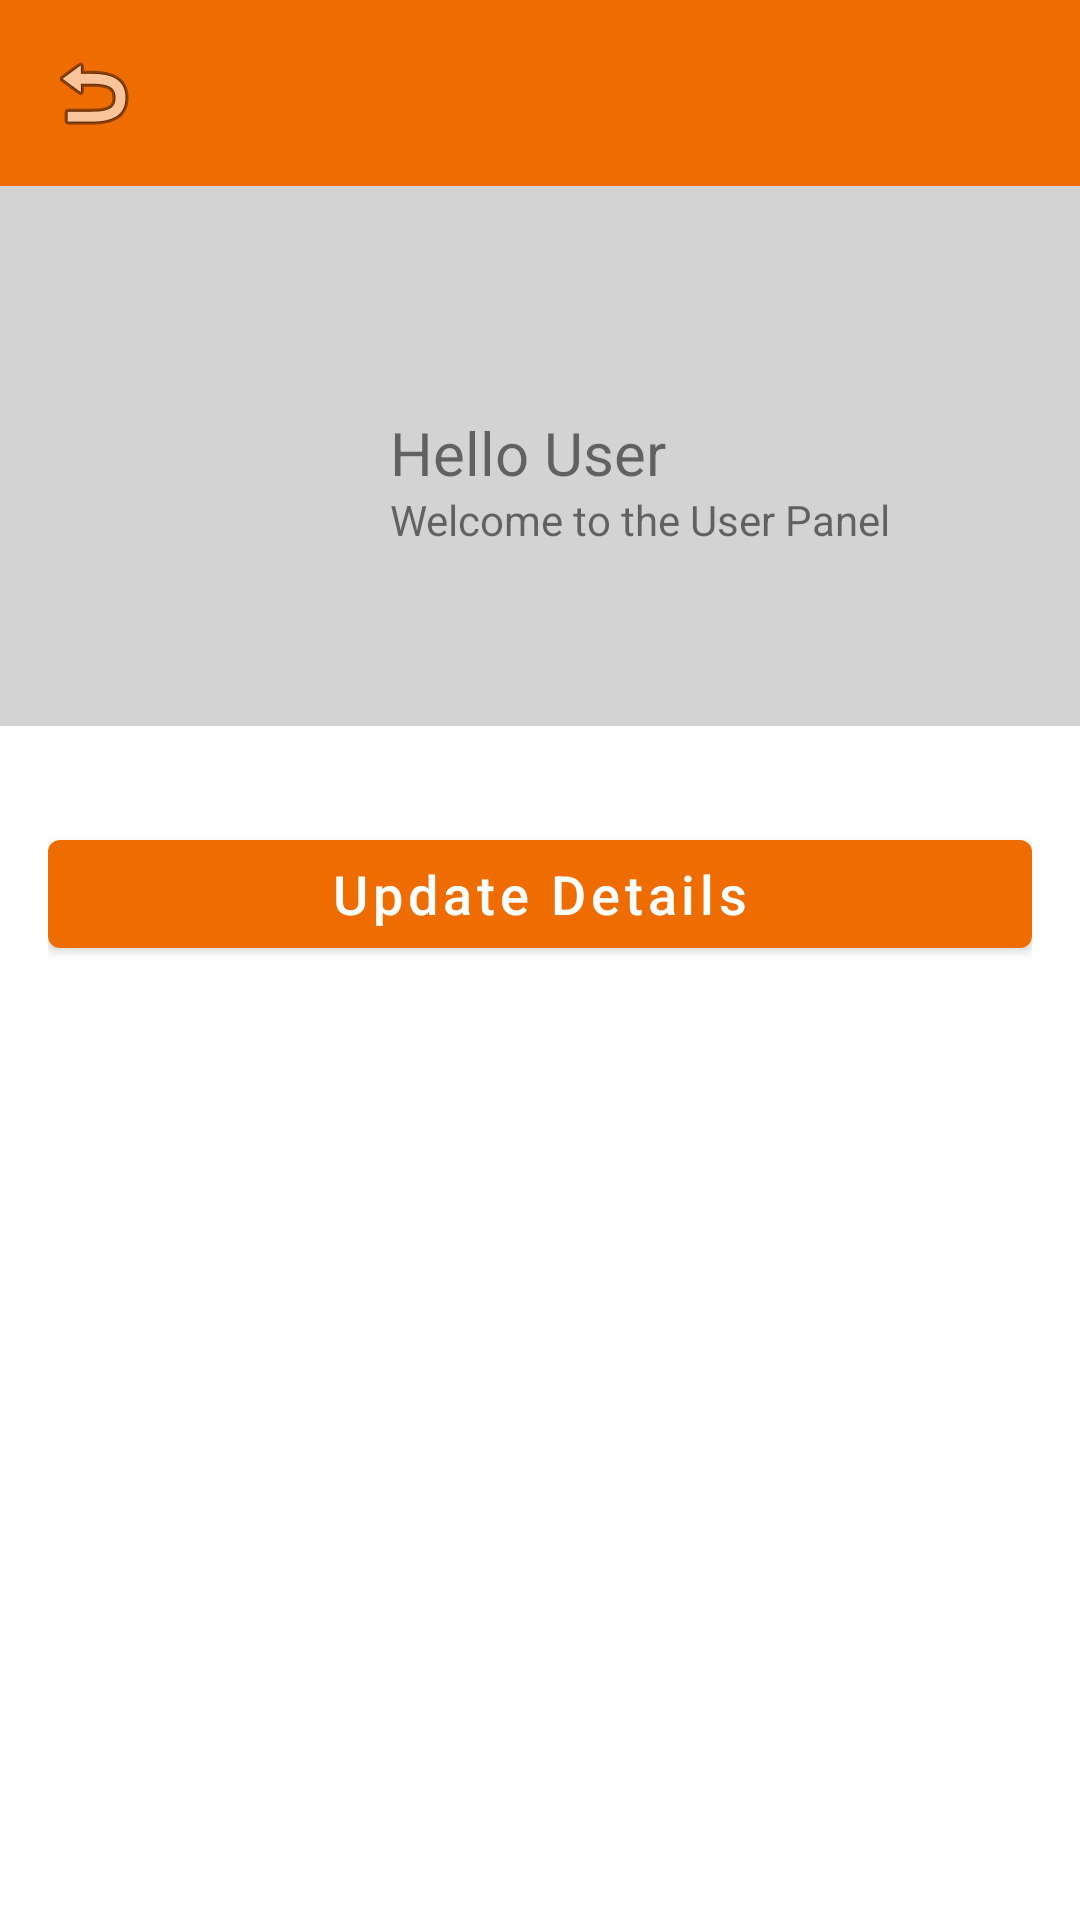

Locate icon controls on the screen. Image size 1080px×1920px, boxes as (x1, y1, x2, y2).
revert: (60, 62, 129, 125)
